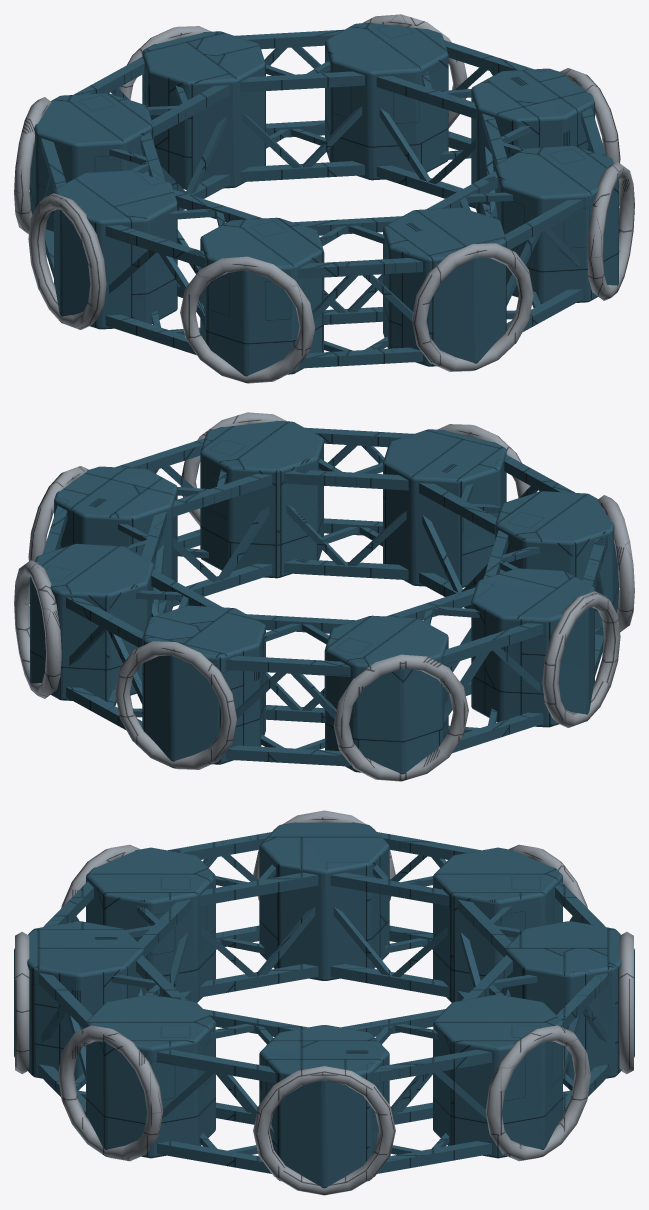
The model's file is truss_octagonal_hub_lod0.glb.
3 renders of one model, top to bottom at view 1: azimuth 30°, elevation 25°; view 2: azimuth 150°, elevation 25°; view 3: azimuth 270°, elevation 25°, orthographic.
Parts seen in each view (by area): view 1: LOD0_Armor, LOD0_BrushedMetal; view 2: LOD0_Armor, LOD0_BrushedMetal; view 3: LOD0_Armor, LOD0_BrushedMetal.
Part boxes in pixels (x1=…): LOD0_Armor: x1=30, y1=22, x2=618, y2=376; LOD0_BrushedMetal: x1=14, y1=14, x2=634, y2=383; LOD0_Armor: x1=30, y1=420, x2=618, y2=774; LOD0_BrushedMetal: x1=14, y1=412, x2=634, y2=781; LOD0_Armor: x1=14, y1=822, x2=634, y2=1188; LOD0_BrushedMetal: x1=15, y1=810, x2=633, y2=1195.
Bounding box in the file's own units: 7.09 × 1.63 × 7.09.
2 materials, 2 textured.
